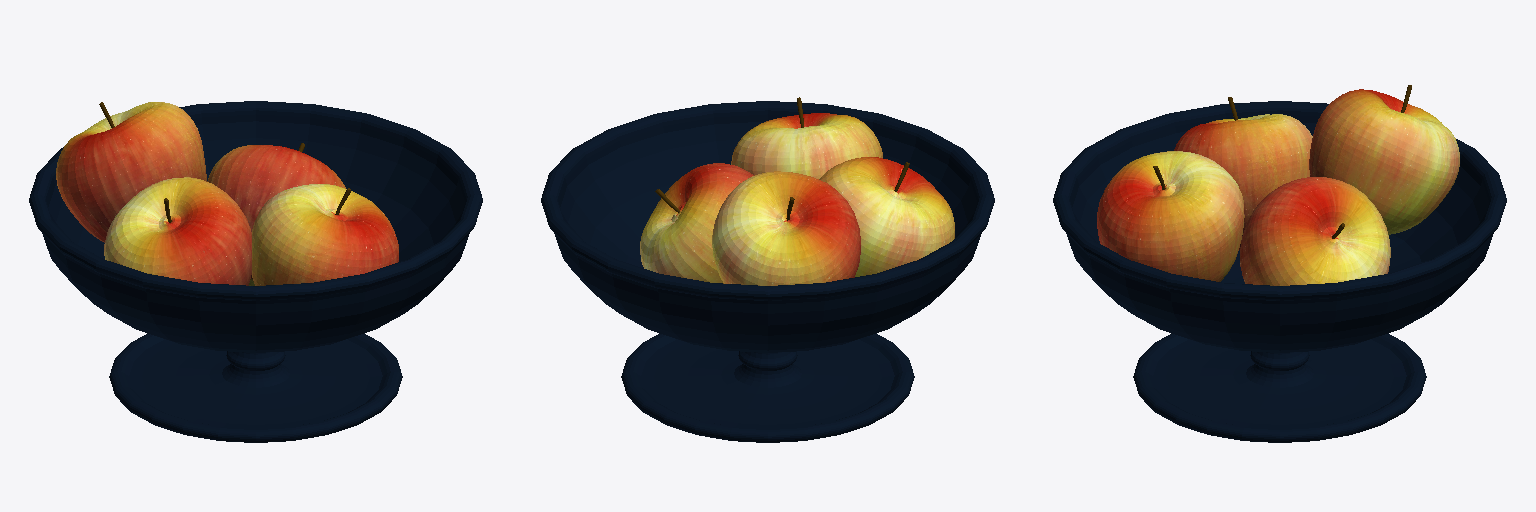
3 views of the same model, side by side, from view 1: azimuth 30°, elevation 25°; view 2: azimuth 150°, elevation 25°; view 3: azimuth 270°, elevation 25° (orthographic).
Visible parts, largest first — view 1: g7, g6, g2, g5, g4; view 2: g7, g2, g6, g4, g5; view 3: g7, g5, g2, g4, g6.
Part boxes in pixels (x1,y1,x2,y2): g7: (29,101,482,442); g6: (104,177,251,285); g2: (56,102,206,242); g5: (252,184,398,285); g4: (207,145,345,285); g7: (541,101,994,442); g2: (712,171,860,285); g6: (819,157,954,276); g4: (640,163,753,283); g5: (731,97,882,178); g7: (1053,101,1506,442); g5: (1097,151,1244,281); g2: (1309,89,1459,234); g4: (1240,177,1390,285); g6: (1174,97,1312,249).
Bounding box in the file's own units: 25.73 × 16.02 × 25.73.
Materials: 3 (1 with a texture image).